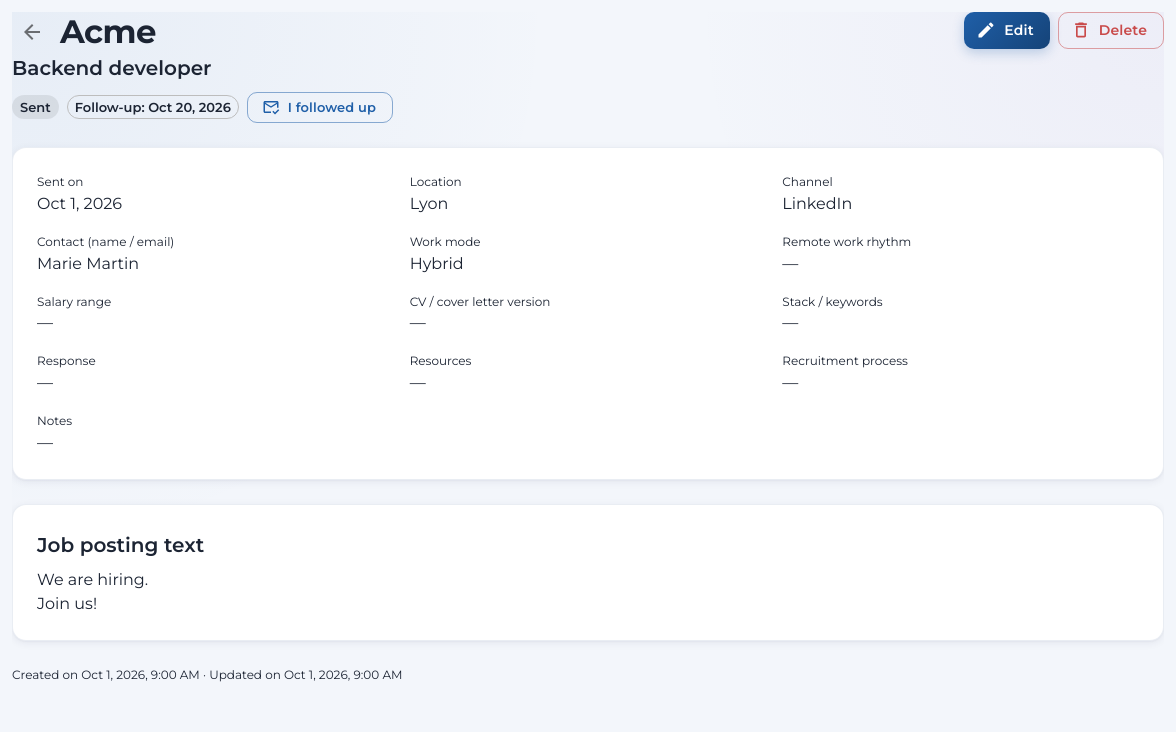
Test: ApplicationDetailPage › records a follow-up, even before it is due, and shows the next one
Check: the text "Follow-up: Oct 20, 2026" is shown, box [68,98,238,117]
Check: the text "Follow-up #2" is not shown
Click the button "I followed up" at [320, 107], box [247,92,393,123]
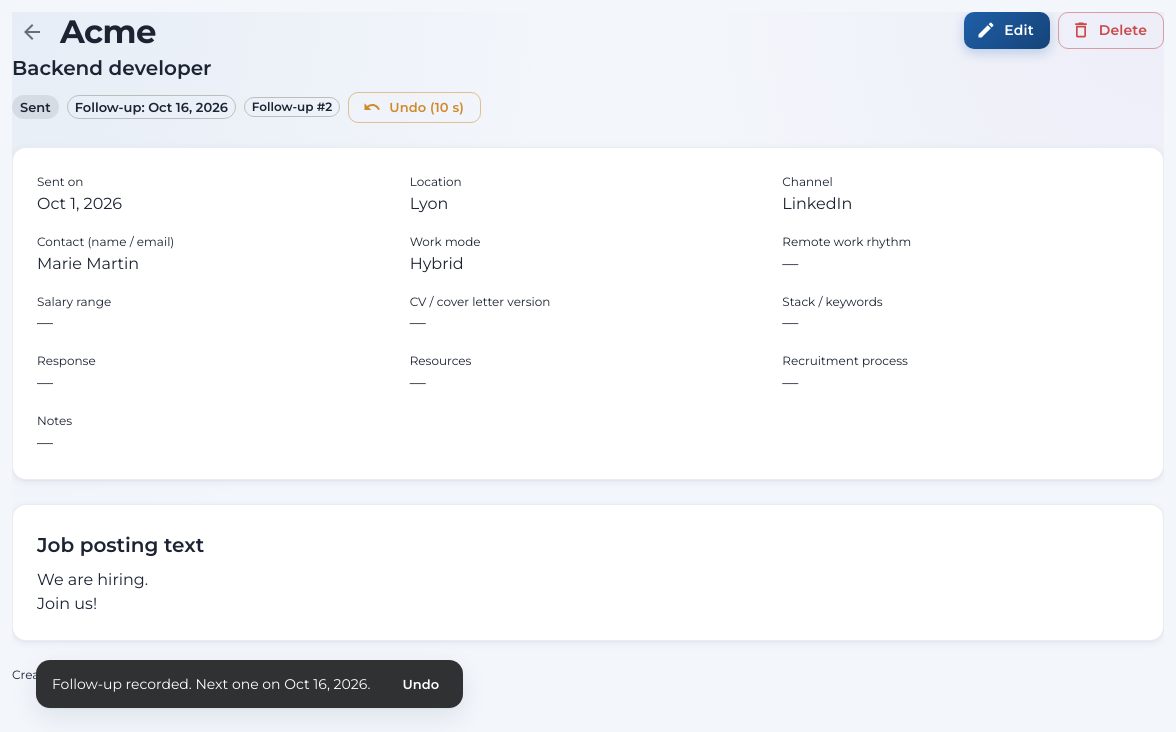
Check: the text "Follow-up: Oct 16, 2026" is shown, box [68,98,235,117]
Check: the text "Follow-up #2" is shown, box [245,98,339,116]
Check: the text "Follow-up recorded. Next one on Oct 16, 2026." is shown, box [52,675,370,693]
